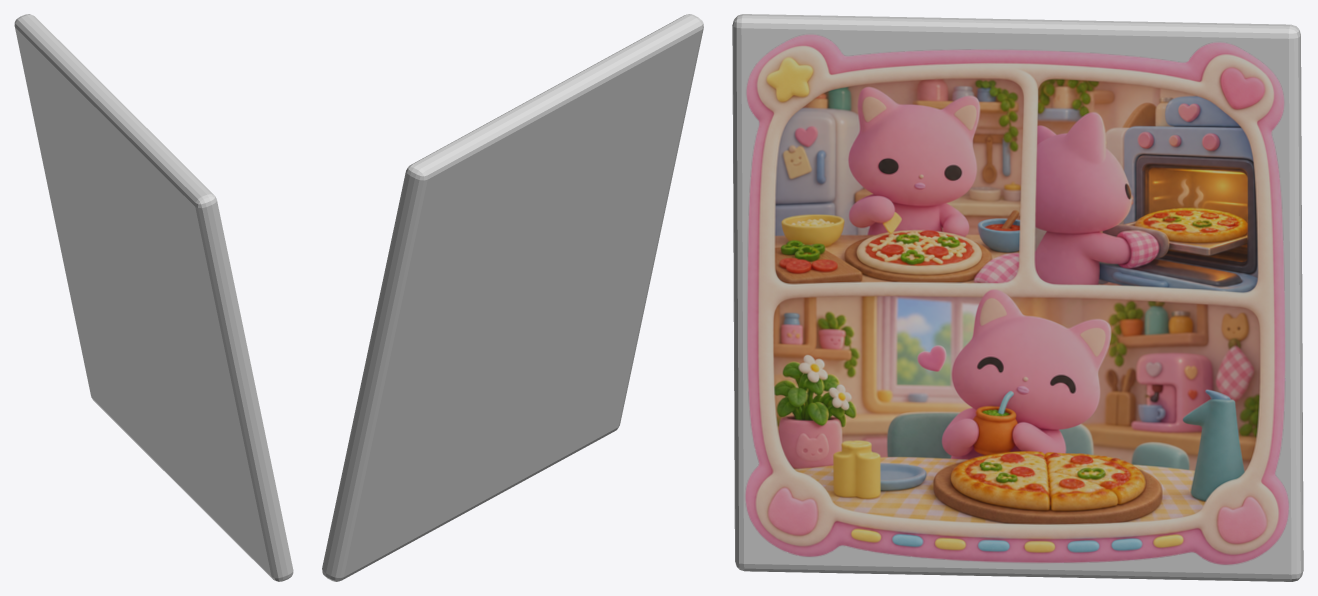
File: memory_2.glb
3 views of the same model, side by side, from view 1: azimuth 30°, elevation 25°; view 2: azimuth 150°, elevation 25°; view 3: azimuth 270°, elevation 25° (orthographic). The views are drawn at different scales.
Visible parts, largest first — view 1: memory_2_page; view 2: memory_2_page; view 3: memory_2_page.
Boxes of the visible parts, box(x1,y1,x2,y2) form: memory_2_page: box(14, 14, 293, 581); memory_2_page: box(322, 14, 703, 581); memory_2_page: box(732, 14, 1303, 581).
Size of what is drawn, in the model's own units: 0.2756 by 0.8052 by 0.8004.
Materials: 2 (1 with a texture image).
